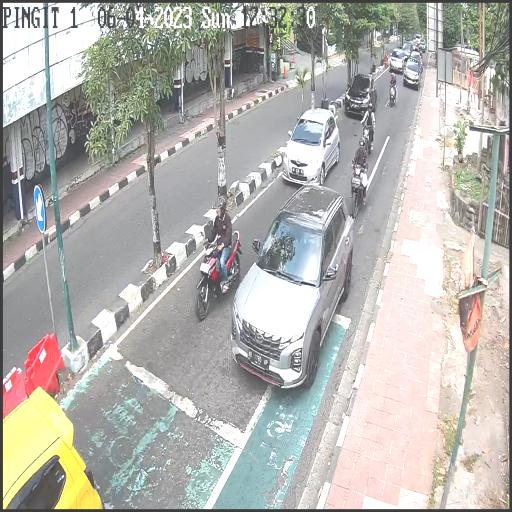mobil: (234, 182, 354, 390), (282, 105, 340, 186), (346, 74, 376, 115), (406, 57, 422, 89), (391, 48, 406, 74)
motor: (194, 229, 242, 322), (350, 160, 368, 211), (360, 122, 373, 151), (388, 81, 398, 107)
